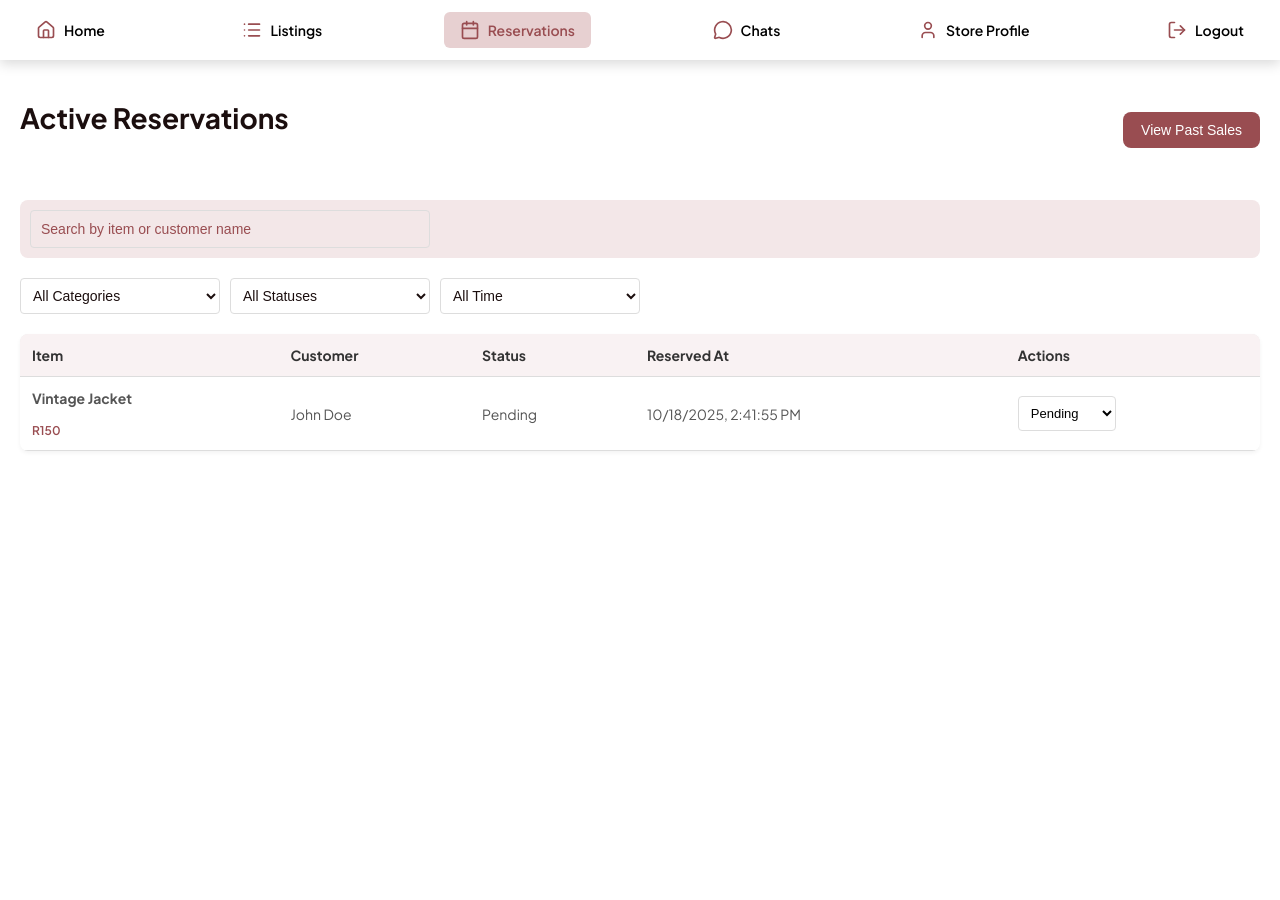
Test case: StoreReservations › Modal Functionality › closes modal when close button is clicked
The image size is (1280, 900).
Expected: the text "Vintage Jacket" is shown, x1=32 y1=389 x2=132 y2=407
Click the text "Vintage Jacket": (640, 414) x1=20 y1=376 x2=1260 y2=450
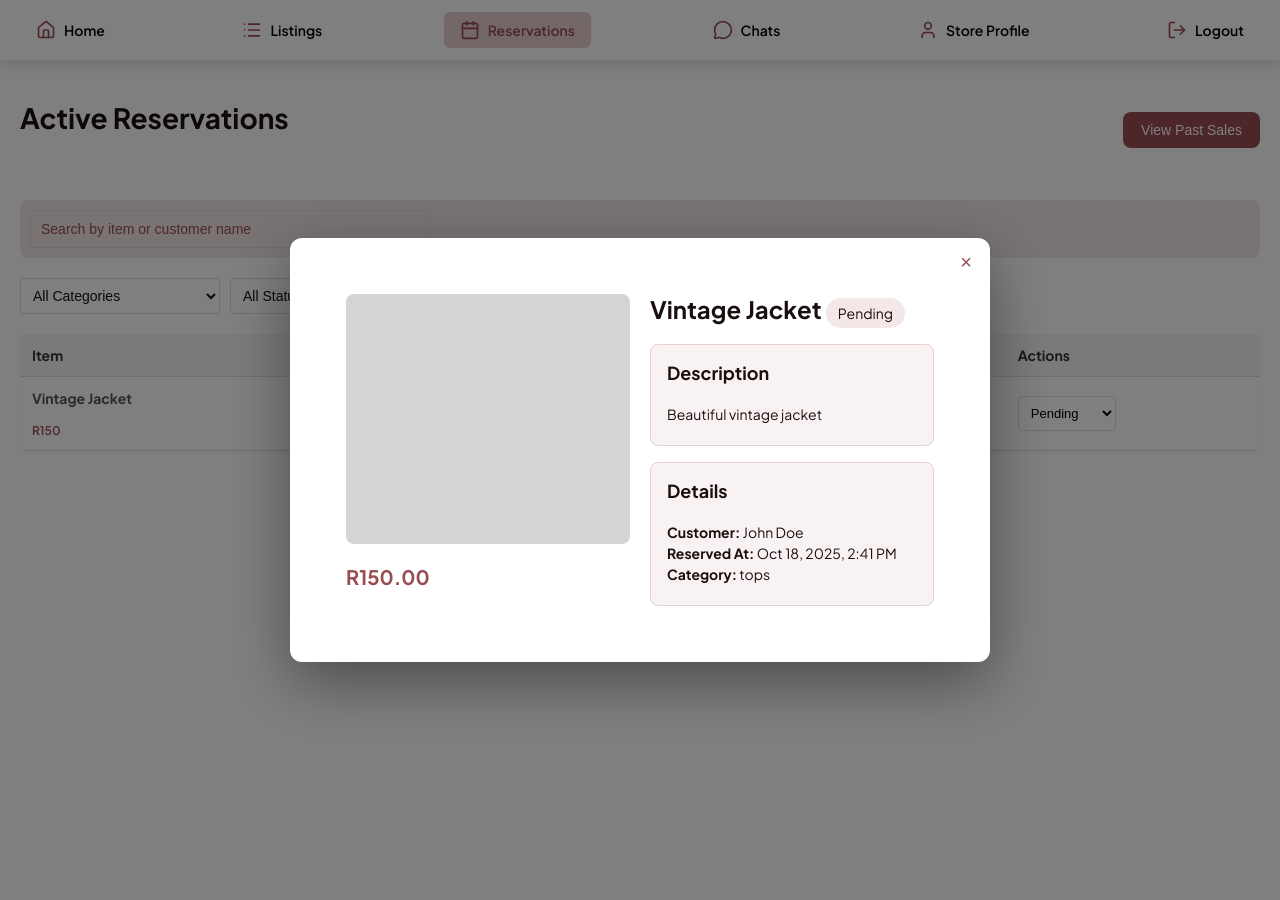
Expected: the text "Beautiful vintage jacket" is shown, x1=667 y1=405 x2=822 y2=423
Close modal
Click the button "×": (966, 262) x1=954 y1=250 x2=978 y2=275
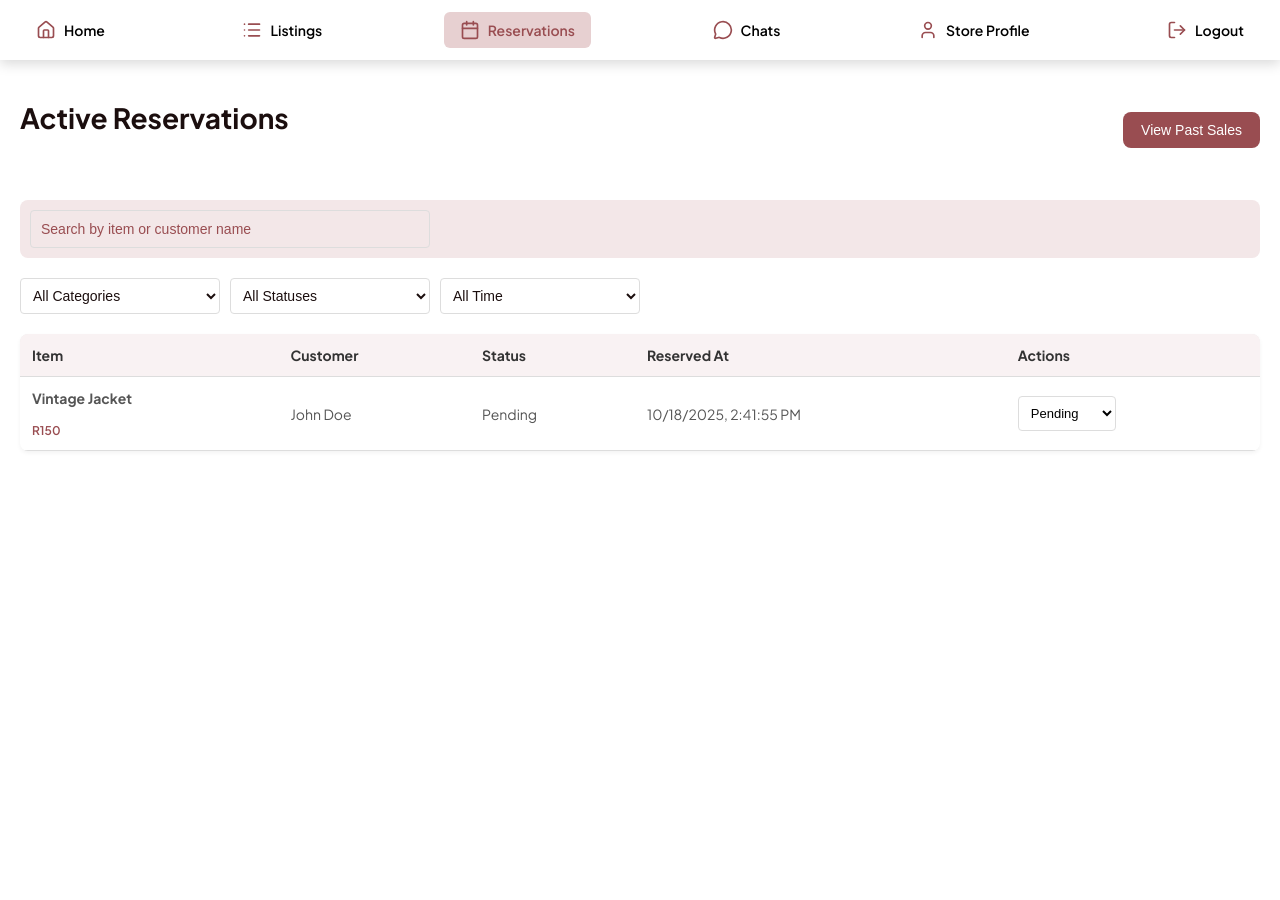
Expected: the text "Beautiful vintage jacket" is gone
